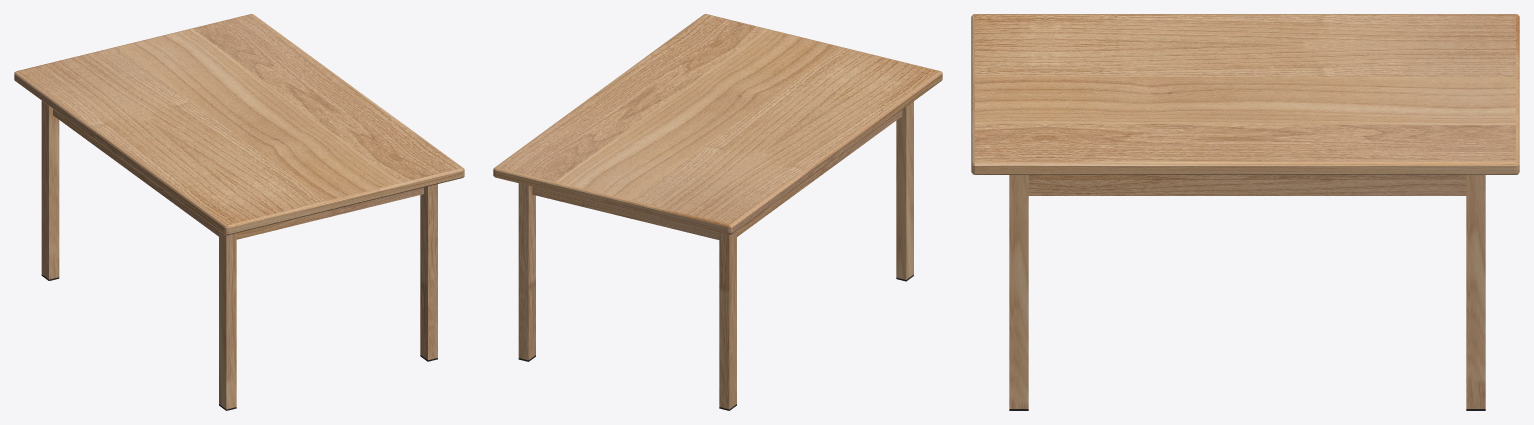
File: Table.fbx
3 views of the same model, side by side, from view 1: azimuth 30°, elevation 25°; view 2: azimuth 150°, elevation 25°; view 3: azimuth 270°, elevation 25° (orthographic). The views are drawn at different scales.
Parts seen in each view (by area): view 1: stoleshnica; view 2: stoleshnica; view 3: stoleshnica.
Part boxes in pixels (left/top/right/bottom): stoleshnica: left=14, top=14, right=464, bottom=410; stoleshnica: left=493, top=14, right=942, bottom=410; stoleshnica: left=971, top=14, right=1519, bottom=410.
Bounding box in the file's own units: 1.15 × 0.9078 × 1.77.
1 material, 1 textured.
